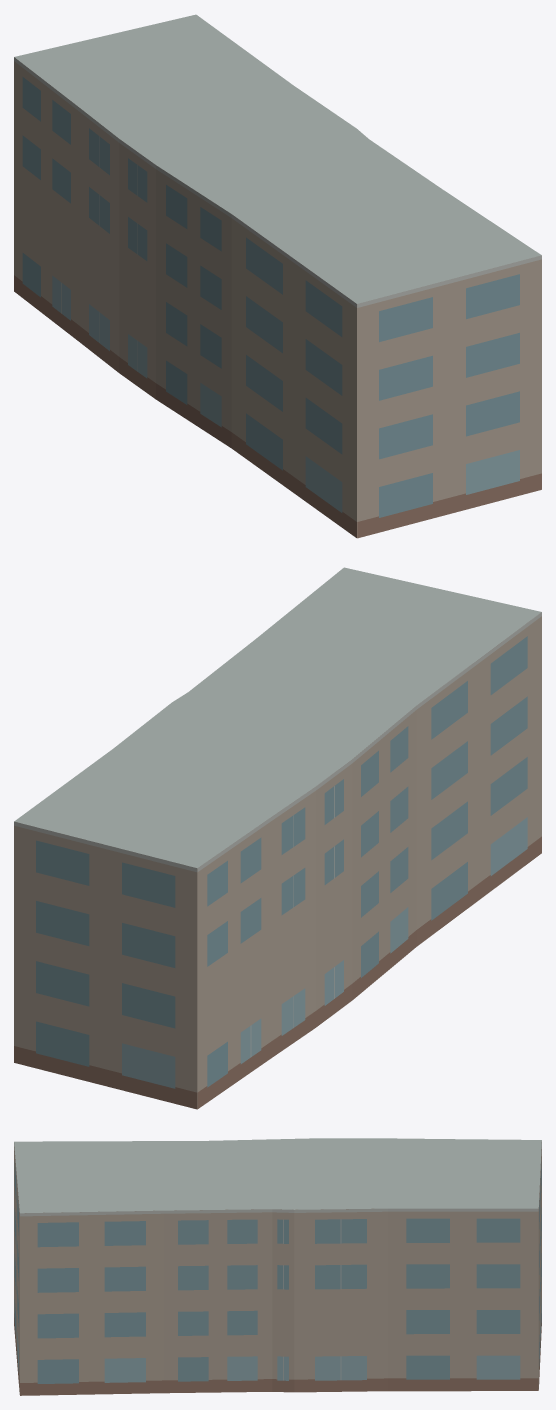
File: survey-upis-33018106.glb
3 renders of one model, top to bottom at view 1: azimuth 30°, elevation 25°; view 2: azimuth 150°, elevation 25°; view 3: azimuth 270°, elevation 25°, orthographic. The views are drawn at different scales.
Parts seen in each view (by area): view 1: survey-upis-33018106.tmp; view 2: survey-upis-33018106.tmp; view 3: survey-upis-33018106.tmp.
Part boxes in pixels (bbox=[...]): survey-upis-33018106.tmp: bbox=[14, 14, 541, 538]; survey-upis-33018106.tmp: bbox=[14, 567, 541, 1109]; survey-upis-33018106.tmp: bbox=[14, 1138, 541, 1395].
Bounding box in the file's own units: 12.45 × 14.1 × 36.96.
